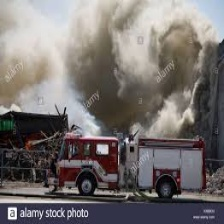smoke: (64, 2, 199, 135), (1, 4, 48, 96)
